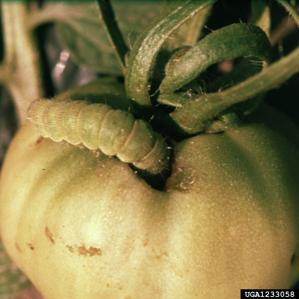Cotton bollworm: (18, 82, 191, 191)
